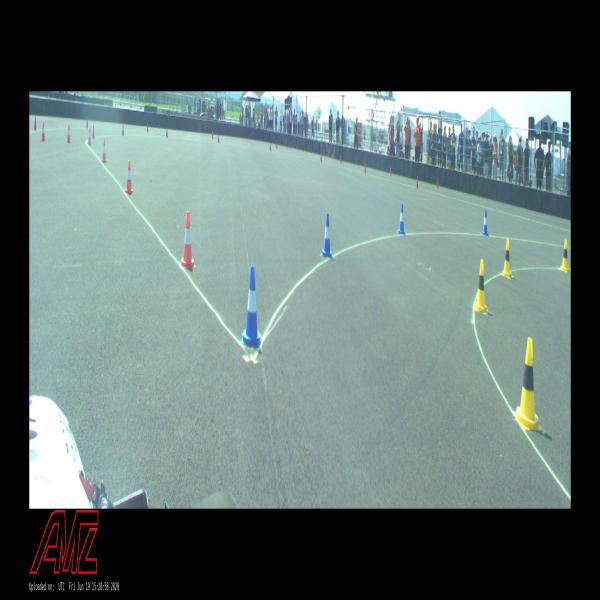blue_cone: (241, 264, 262, 348), (320, 213, 332, 258), (397, 202, 405, 235), (482, 209, 489, 237)
orange_cone: (180, 211, 196, 269), (125, 160, 133, 194), (101, 140, 107, 162), (40, 121, 46, 141), (66, 124, 71, 143), (87, 126, 92, 145)
yellow_cone: (516, 338, 542, 432), (474, 260, 487, 312), (502, 238, 512, 279), (560, 239, 569, 272)
